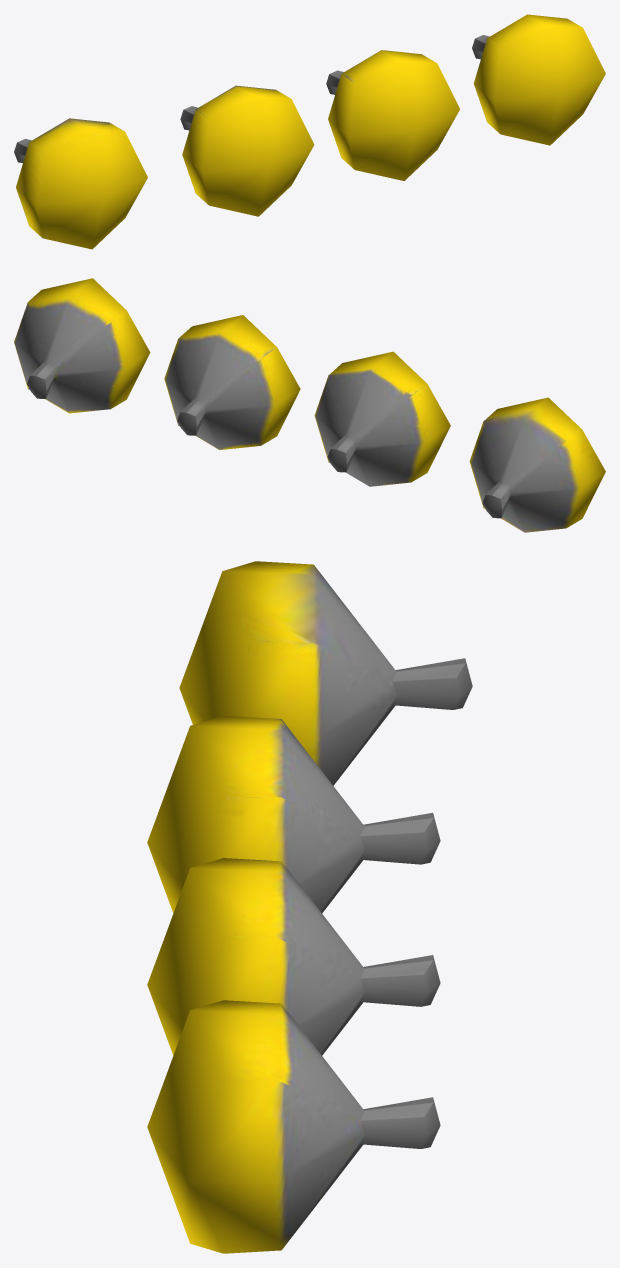
The model's file is Buttons_Digest 1.fbx.
The picture shows the model from 3 angles, top to bottom: view 1: azimuth 30°, elevation 25°; view 2: azimuth 150°, elevation 25°; view 3: azimuth 270°, elevation 25°; orthographic projection. The views are drawn at different scales.
Parts seen in each view (by area): view 1: polySurface4, polySurface2, polySurface3, polySurface1; view 2: polySurface3, polySurface4, polySurface1, polySurface2; view 3: polySurface3, polySurface1, polySurface2, polySurface4.
Boxes of the visible parts, x1,y1,x2,y2 form: polySurface4: (180, 85, 314, 216); polySurface2: (326, 50, 459, 180); polySurface3: (472, 14, 605, 145); polySurface1: (14, 118, 147, 249); polySurface3: (14, 278, 150, 413); polySurface4: (314, 351, 450, 486); polySurface1: (469, 397, 605, 532); polySurface2: (164, 315, 300, 449); polySurface3: (147, 1000, 440, 1253); polySurface1: (179, 561, 472, 785); polySurface2: (147, 858, 440, 1055); polySurface4: (147, 715, 440, 913).
Size of the model in its own units: 300 by 59.67 by 75.42.
Materials: 1 (1 with a texture image).
